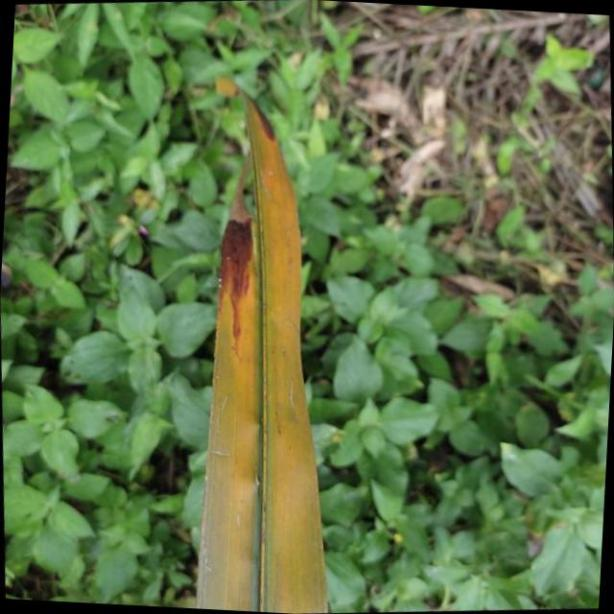Megnesium: (179, 69, 331, 614)
